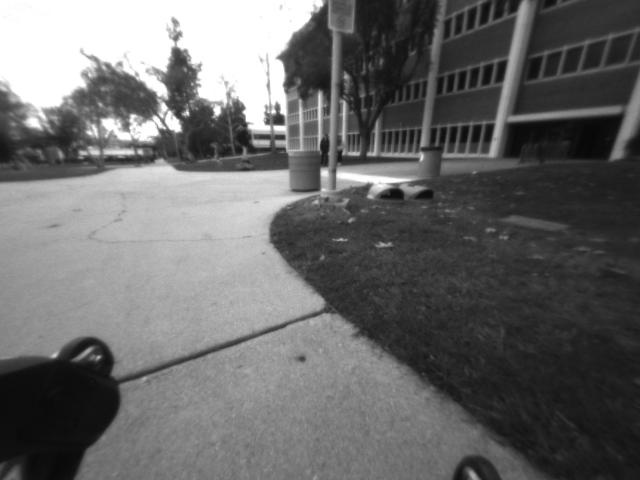trashcan: (287, 148, 326, 197), (413, 146, 445, 179)
